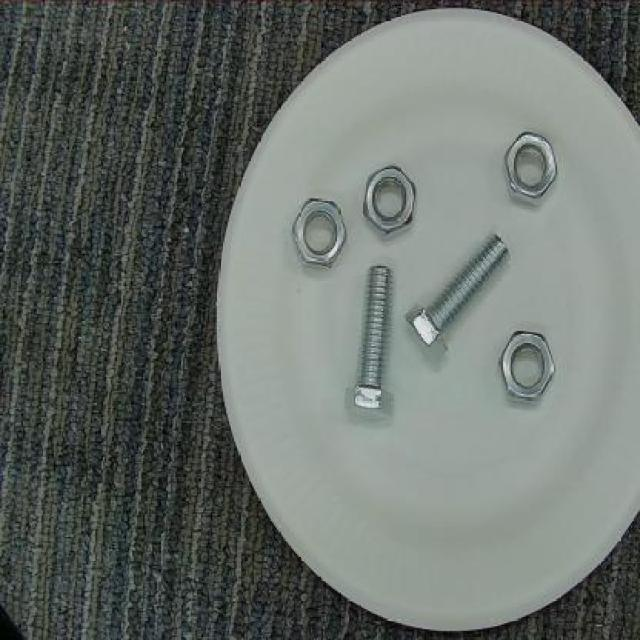Bolt: (405, 231, 516, 360), (341, 263, 402, 425)
Nut: (498, 328, 560, 406), (501, 129, 562, 206), (360, 163, 424, 235), (293, 197, 348, 269)
